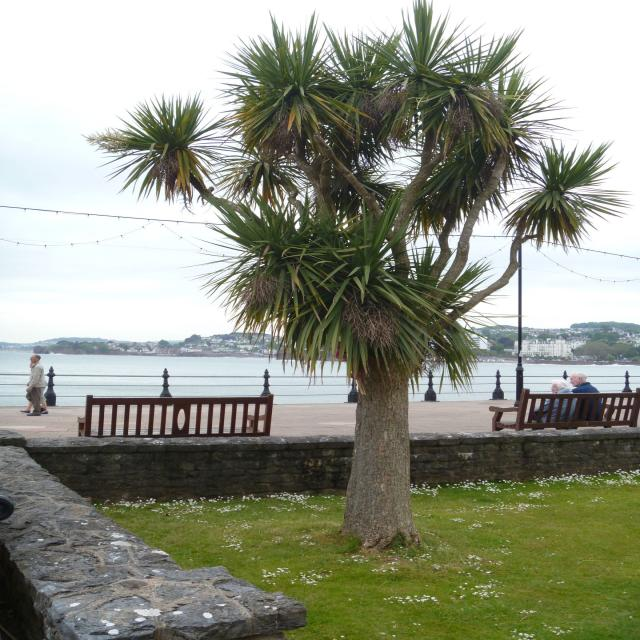Cordyline australis: (221, 32, 546, 551)
